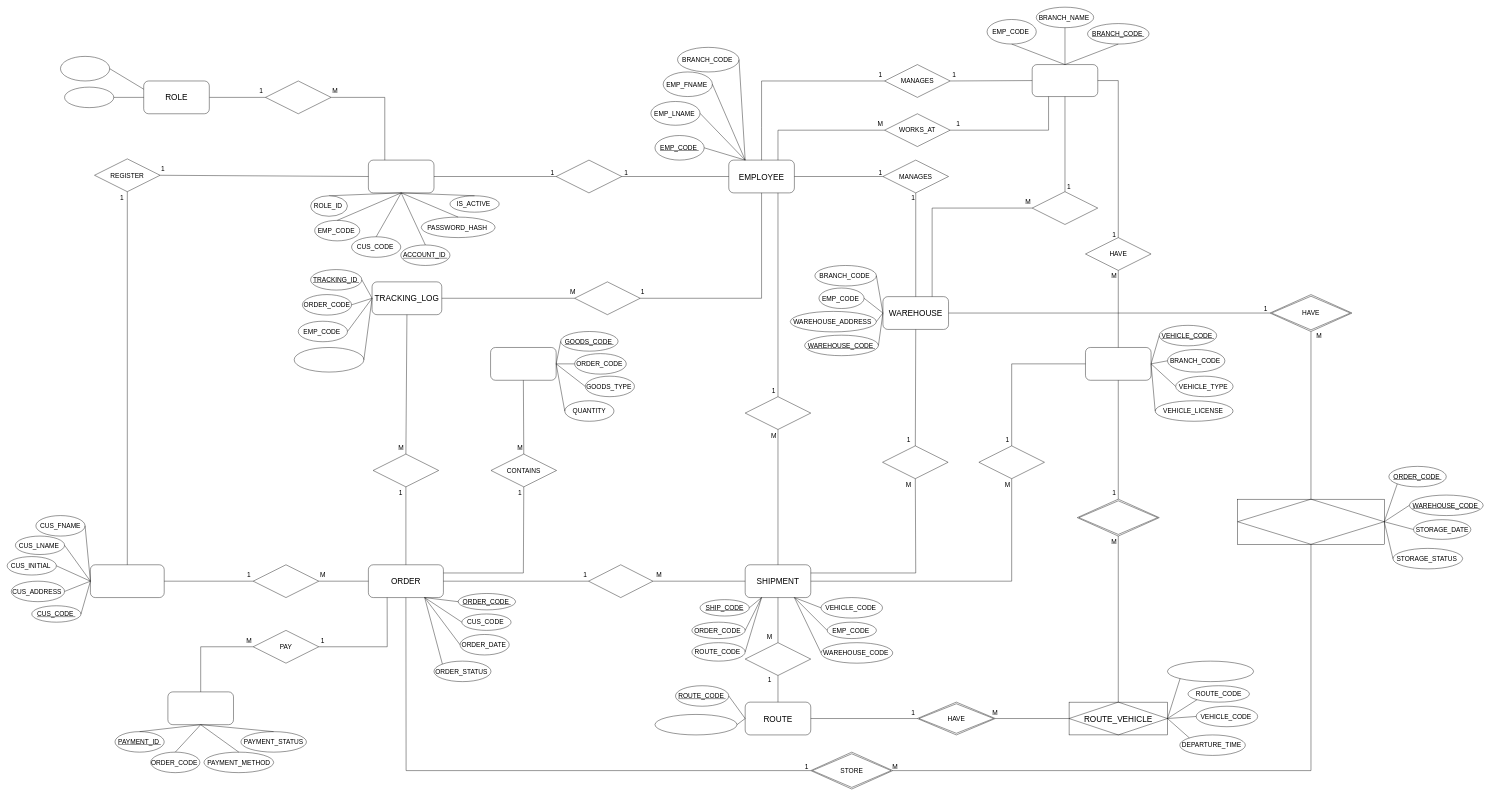
Some shapes in this 1490 by 796 pixel diagram are drawn without their labels. The shapes that lost their labels are listed below. From the top down, each one's centre as x and y in pixels, then its label:
At [85,68]: "ROLE_NAME".
At [1065,80]: "BRANCH".
At [89,97]: "ROLE _ID".
At [298,97]: "ASSIGNED_TO".
At [401,176]: "ACCOUNT".
At [589,176]: "HAS".
At [1065,207]: "CONTROLS".
At [607,298]: "UPDATE".
At [329,359]: "TRACKING_STATUS".
At [523,363]: "GOODS".
At [1118,363]: "VEHICLE".
At [778,412]: "IN CHARGE OF".
At [406,470]: "HAS_LOG".
At [915,462]: "ISSUE FROM".
At [1011,462]: "CARRY".
At [1118,517]: "RUN".
At [1310,521]: "ORDER_WAREHOUSE_LOG".
At [127,581]: "CUSTOMER".
At [286,581]: "CREATE".
At [620,581]: "LOTTING".
At [778,658]: "ROUTE_BASED".
At [1210,671]: "ROUTE_VEHICLE_CODE".
At [200,708]: "PAYMENT".
At [696,724]: "ROUTE_START_POINT".
